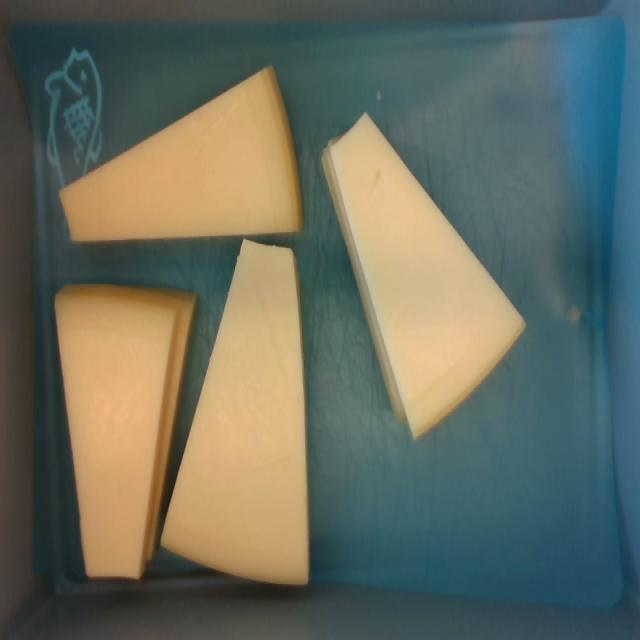cheese: (329, 116, 524, 436), (163, 241, 307, 583), (60, 68, 301, 240), (56, 291, 177, 577)
